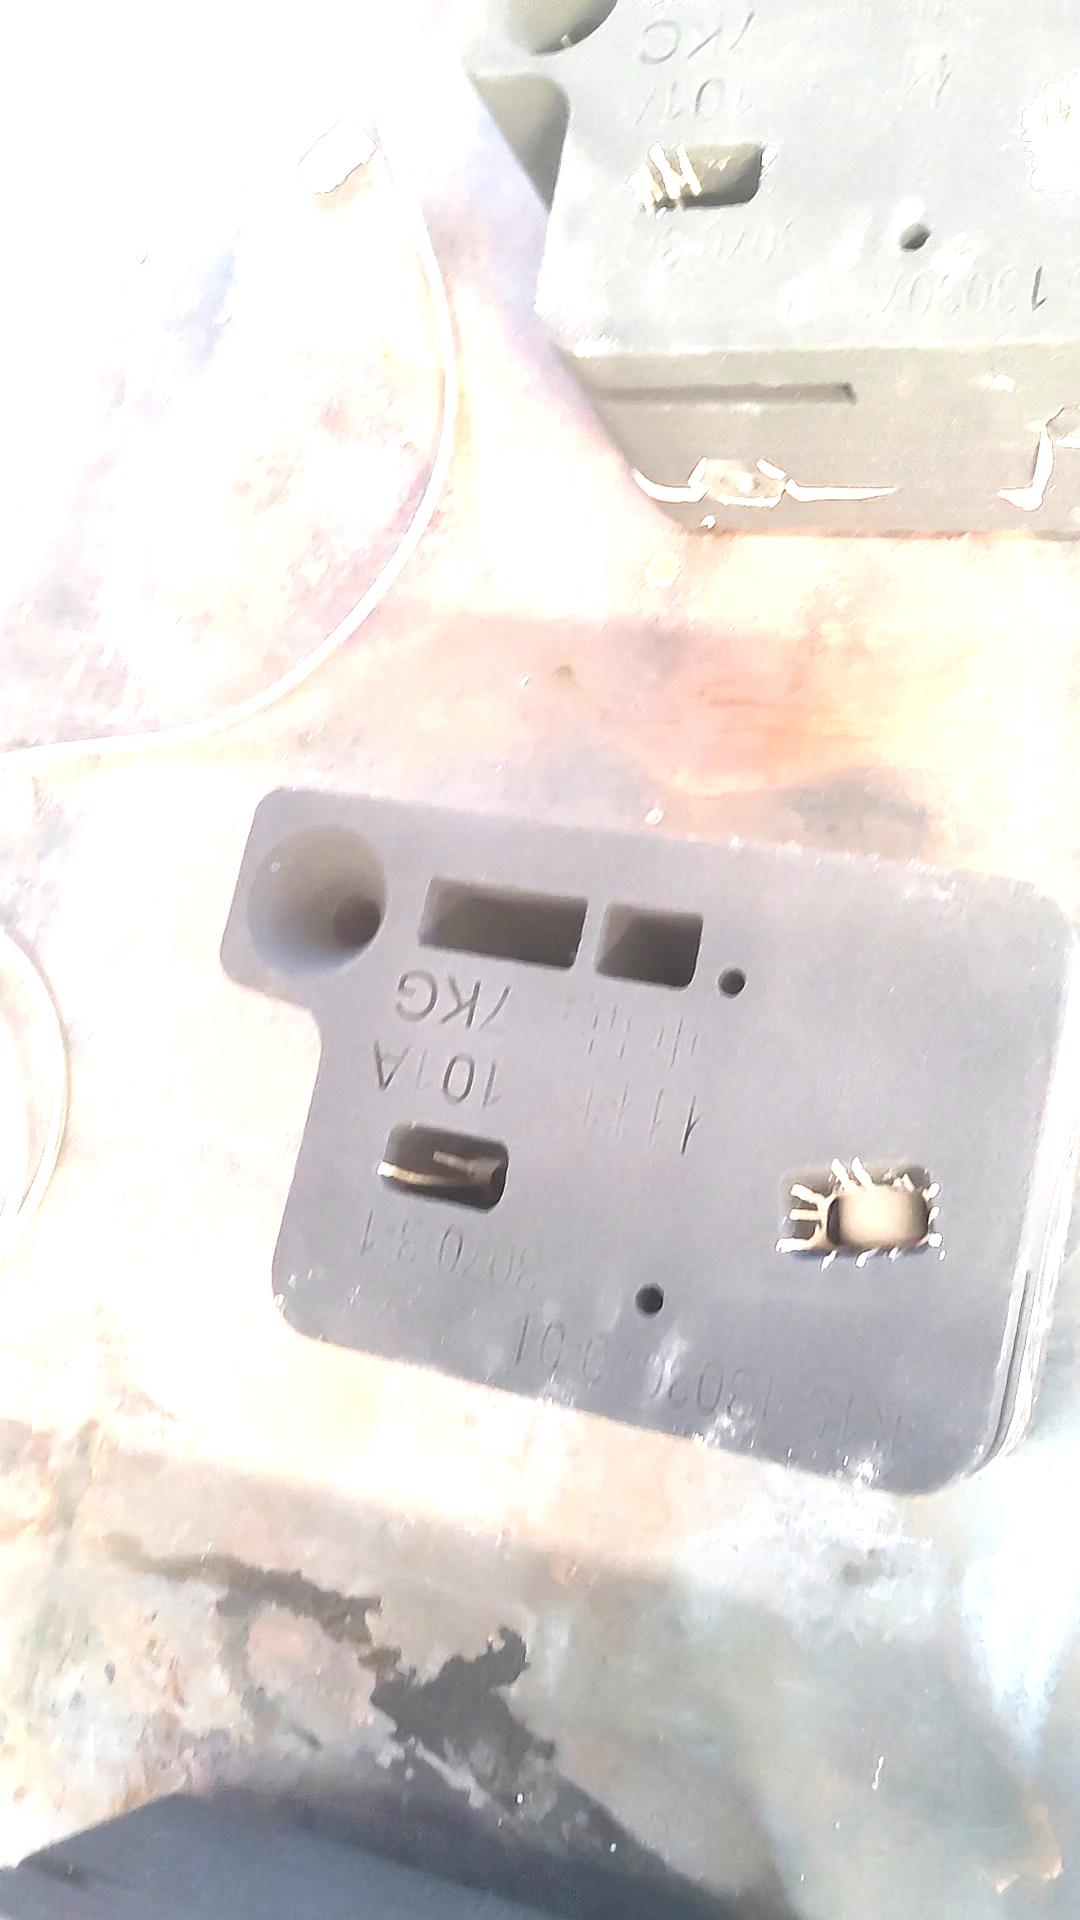pouring hole: (245, 824, 386, 978), (498, 1, 621, 59)
